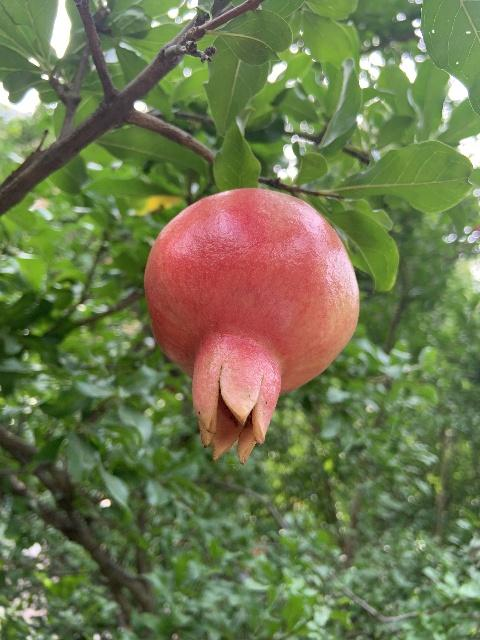ripe: (144, 188, 359, 464)
